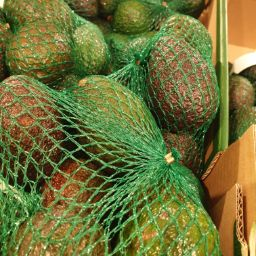Avocado: (69, 71, 181, 193), (130, 30, 223, 131), (1, 72, 67, 191), (4, 1, 112, 73), (88, 2, 220, 58), (115, 194, 222, 256), (6, 196, 105, 256), (7, 22, 79, 82)
